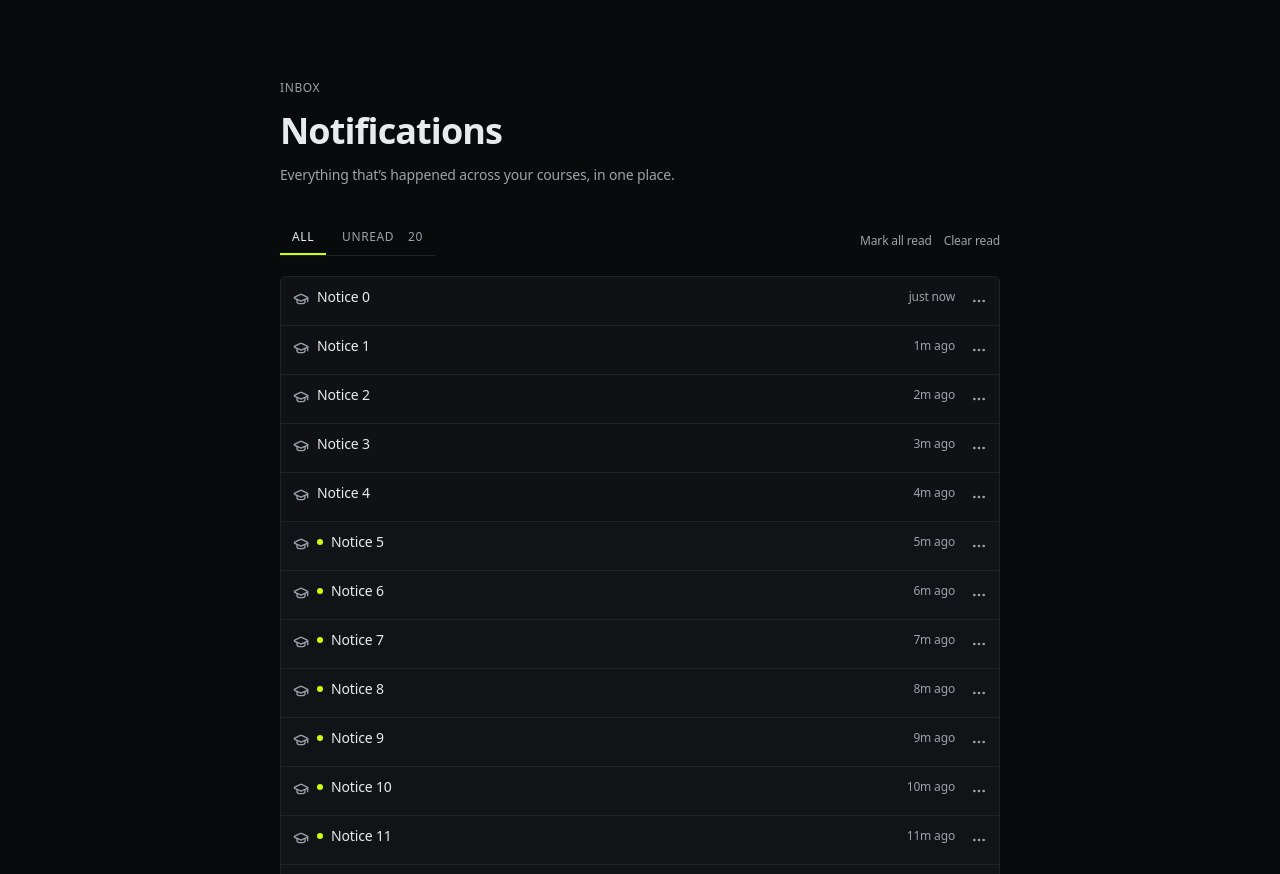
Test: NotificationsPage › clears read rows behind the confirm dialog
Expected: the text "Notice 0" is shown, x1=317 y1=287 x2=370 y2=307
Click the button "Clear read" at (972, 240), box x1=944 y1=232 x2=1000 y2=248
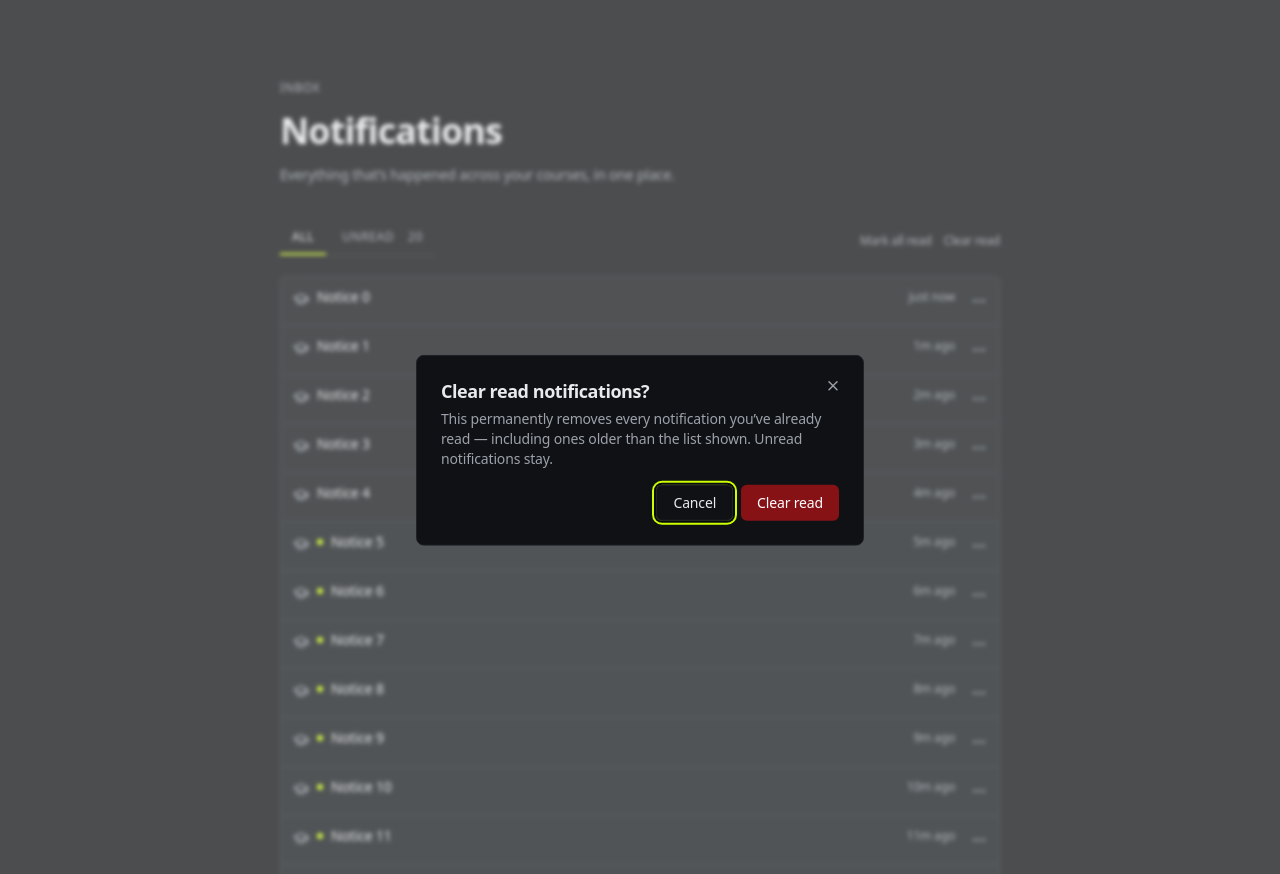
Click the button "Clear read" at (790, 502), box x1=741 y1=484 x2=839 y2=520
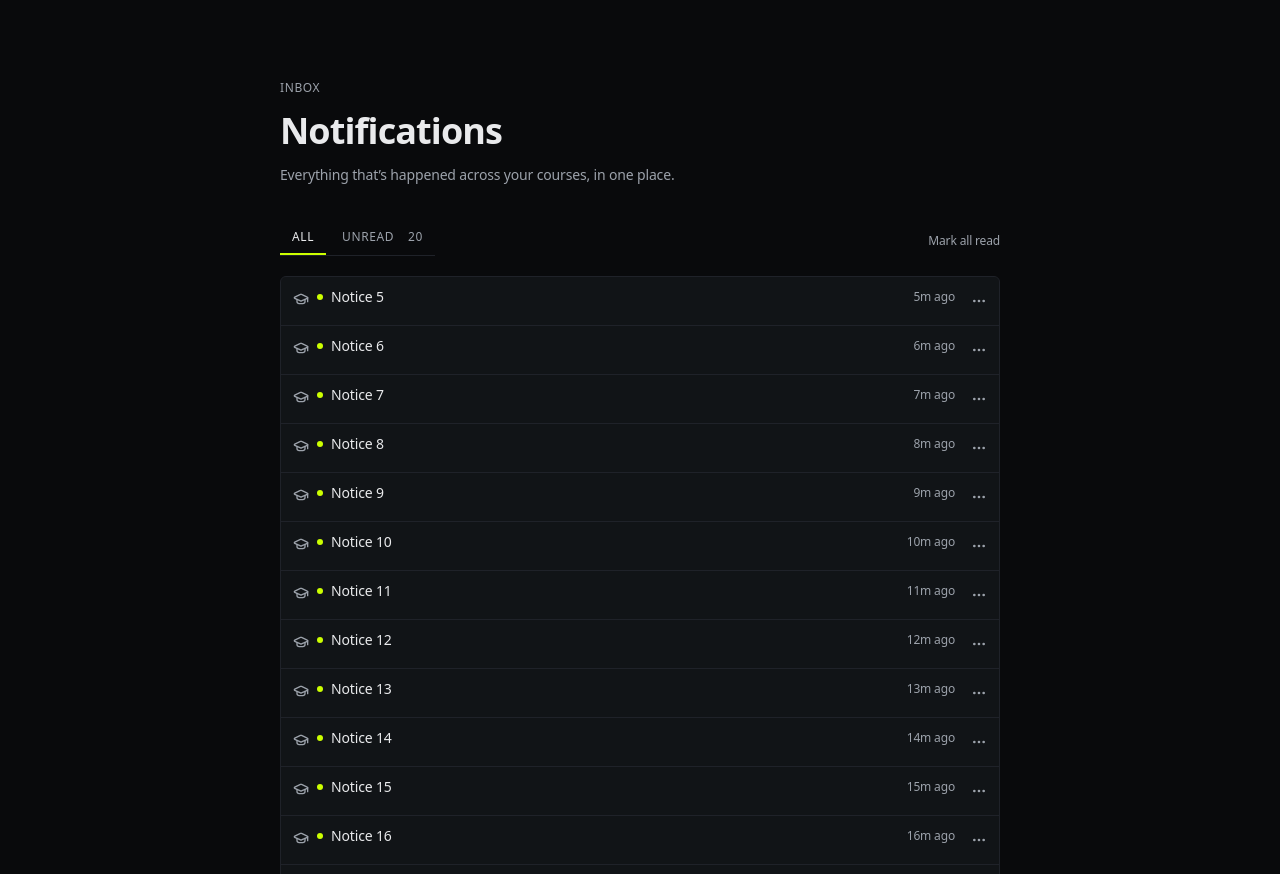
Expected: the text "Notice 5" is shown, x1=331 y1=287 x2=384 y2=307
Expected: the button "Notice 0" is gone
